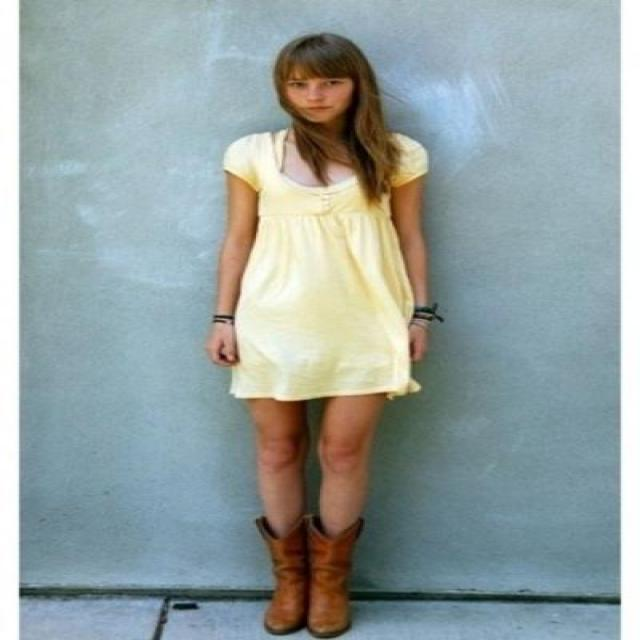dress: (224, 131, 426, 400)
shoe: (256, 514, 354, 639)
